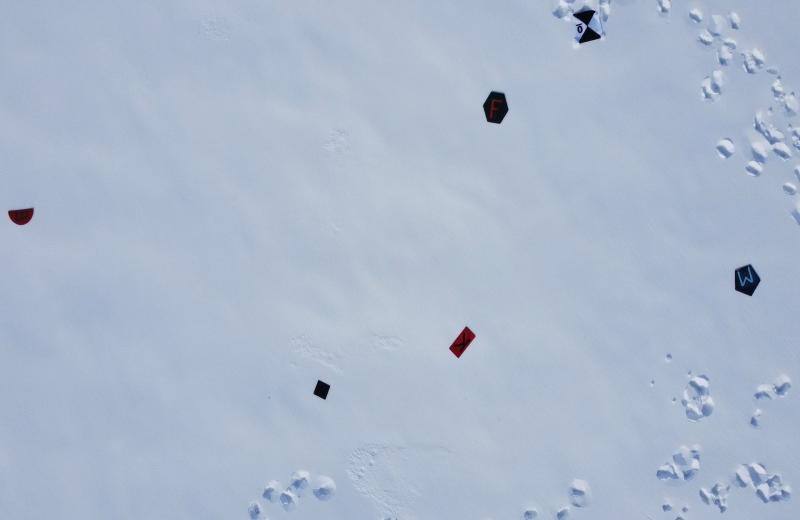Hexagon: (481, 89, 509, 125)
Pentagon: (732, 262, 762, 298)
Rectangle: (446, 325, 480, 358)
Semi Circle: (8, 204, 34, 226)
Square: (311, 376, 332, 402)
